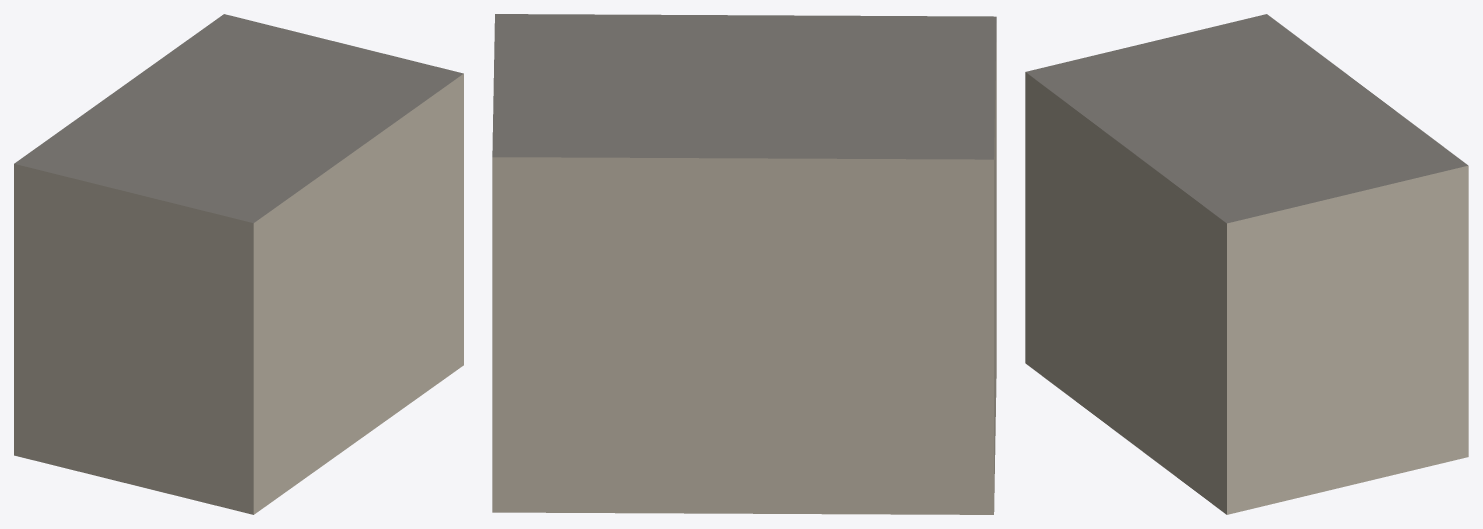
3 views of the same model, side by side, from view 1: azimuth 30°, elevation 25°; view 2: azimuth 150°, elevation 25°; view 3: azimuth 270°, elevation 25° (orthographic). The views are drawn at different scales.
Visible parts, largest first — view 1: HP-w1286965211; view 2: HP-w1286965211; view 3: HP-w1286965211.
Boxes of the visible parts, x1,y1,x2,y2 form: HP-w1286965211: [14, 14, 463, 514]; HP-w1286965211: [492, 14, 996, 514]; HP-w1286965211: [1025, 14, 1468, 514].
Bounding box in the file's own units: 27.75 × 18 × 24.8.
